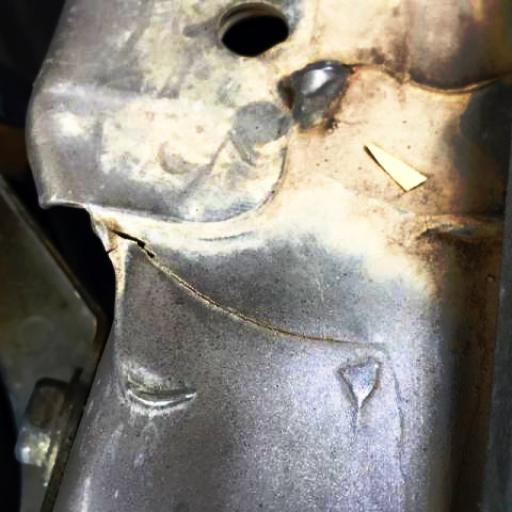crack: (170, 270, 346, 342), (113, 229, 154, 259)
